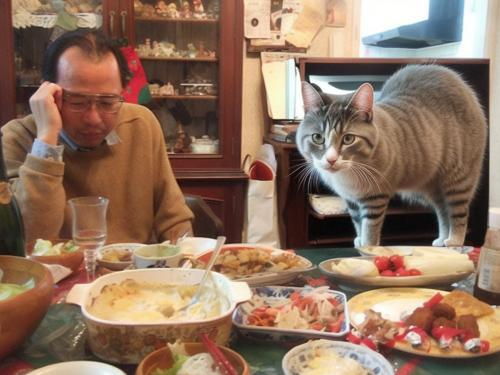bottle: (1, 128, 27, 259)
cat: (285, 57, 489, 246)
diningtable: (5, 241, 500, 375)
person: (1, 25, 198, 241)
person/hand: (30, 82, 63, 141)
person/head: (43, 30, 131, 149)
